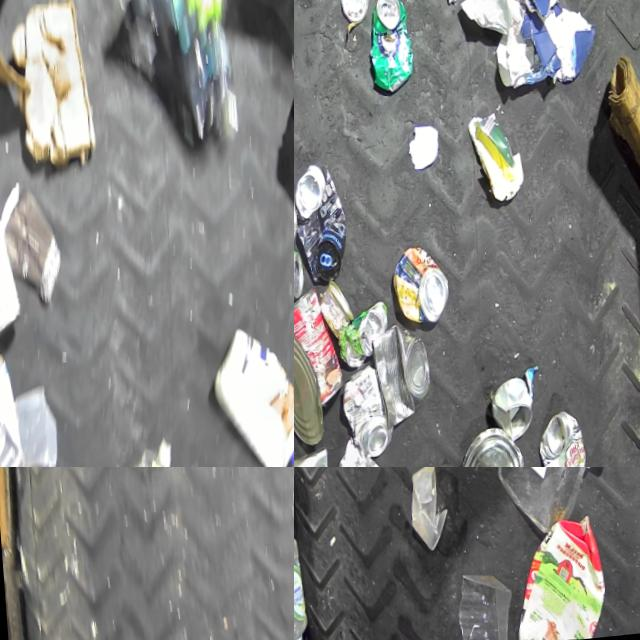can: (359, 329, 427, 440), (294, 166, 345, 291), (294, 291, 339, 416), (330, 369, 386, 467), (383, 251, 446, 336), (363, 0, 413, 102), (329, 306, 383, 377), (479, 388, 527, 455), (294, 332, 318, 454), (443, 431, 521, 467), (525, 418, 580, 467), (310, 285, 350, 347), (336, 0, 368, 31)
milk_jug: (196, 332, 294, 467)
non_white_jug: (498, 510, 599, 640)
plastic_bottle: (61, 440, 168, 467), (294, 529, 303, 640)
